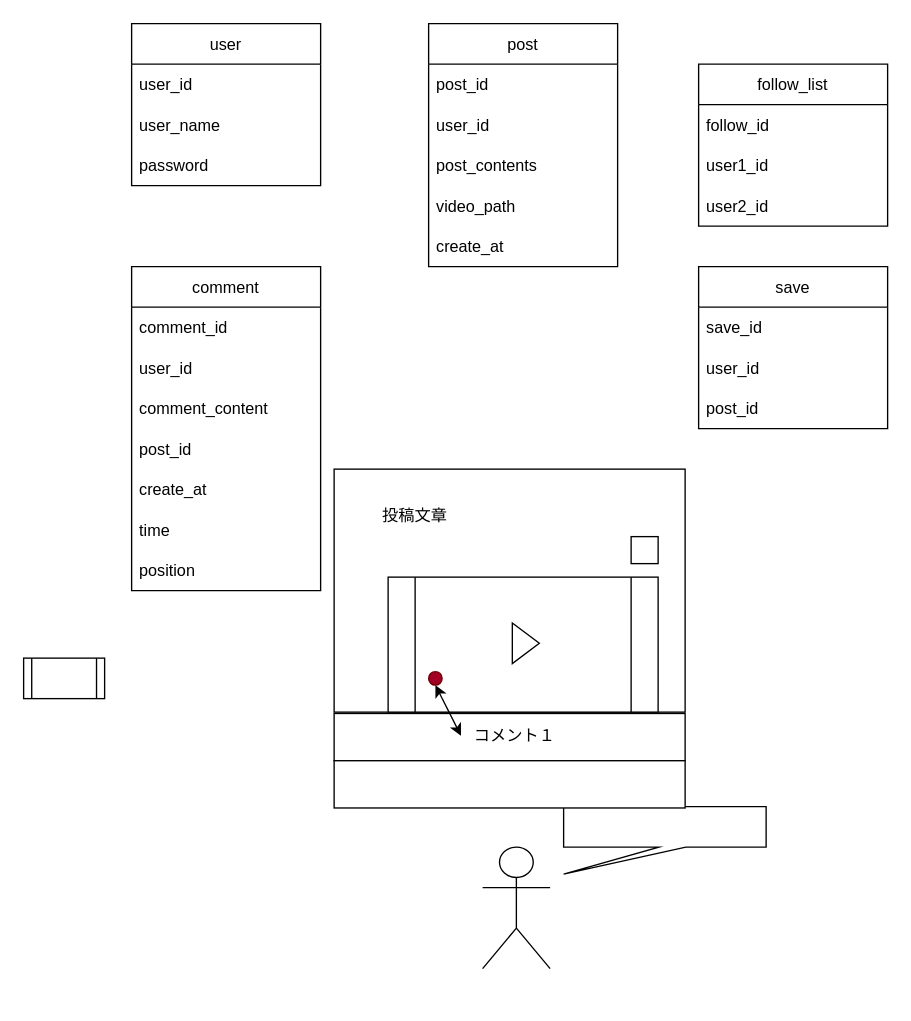
Image size: 911x1021. Some labels were removed from this diagram. The centre of each missing label's shape, as x and y in pixels:
Rei: point 515,907
わからんな～: point 664,839
コメント２: point 509,783
